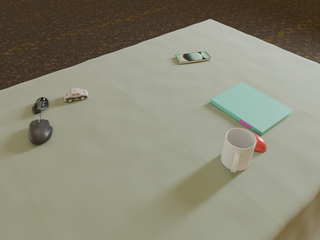book: (210, 82, 293, 136)
cup: (221, 128, 257, 172)
mouse: (29, 119, 52, 145), (253, 133, 266, 152)
phone: (175, 52, 211, 63)
toy_car: (64, 88, 88, 102)
